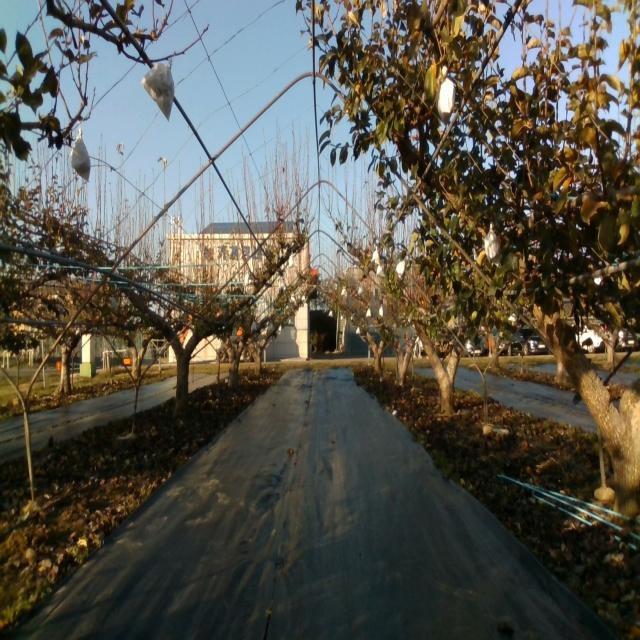pearbags: (142, 59, 174, 120), (70, 128, 92, 180), (437, 76, 455, 122), (484, 229, 499, 265)
